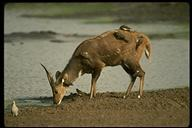antelope: (39, 28, 155, 107)
bird: (9, 99, 22, 118)
water: (152, 39, 188, 86), (5, 46, 38, 96)
